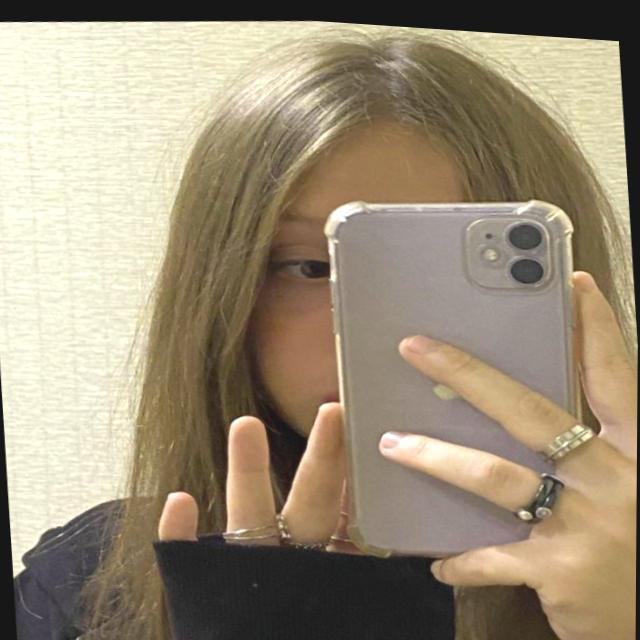Smartphone: (311, 176, 599, 584)
